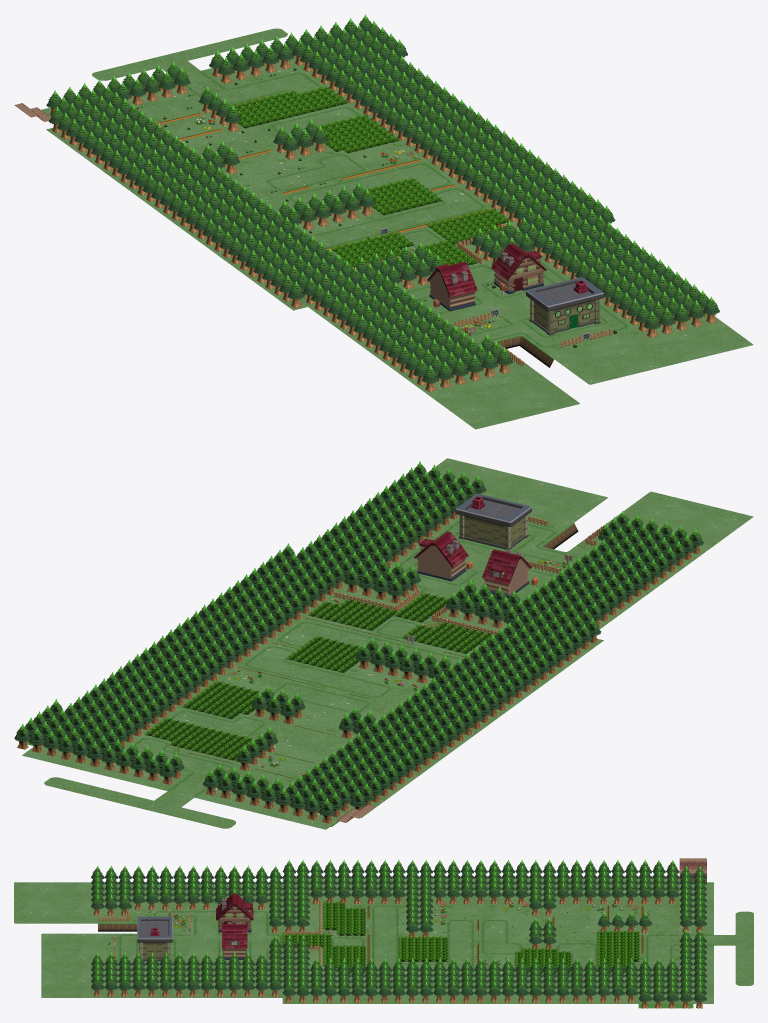
File: pallet_route1.glb
3 renders of one model, top to bottom at view 1: azimuth 30°, elevation 25°; view 2: azimuth 150°, elevation 25°; view 3: azimuth 270°, elevation 25°, orthographic. The views are drawn at different scales.
Visible parts, largest first — view 1: 1haolu_floor, xinshoucun_floor, polySurface6, SM_T_001_House_01, SM_T_001_House_01_1; view 2: 1haolu_floor, xinshoucun_floor, polySurface6, SM_T_001_House_01_1, SM_T_001_House_01; view 3: 1haolu_floor, xinshoucun_floor, polySurface6, SM_T_001_House_01, SM_T_001_House_01_1.
Part boxes in pixels (x1=…): 1haolu_floor: x1=41, y1=28, x2=616, y2=310; xinshoucun_floor: x1=308, y1=251, x2=753, y2=429; polySurface6: x1=526, y1=277, x2=603, y2=335; SM_T_001_House_01: x1=427, y1=261, x2=477, y2=311; SM_T_001_House_01_1: x1=491, y1=243, x2=546, y2=294; 1haolu_floor: x1=22, y1=582, x2=603, y2=829; xinshoucun_floor: x1=389, y1=458, x2=753, y2=629; polySurface6: x1=455, y1=493, x2=531, y2=549; SM_T_001_House_01_1: x1=414, y1=531, x2=468, y2=581; SM_T_001_House_01: x1=482, y1=549, x2=531, y2=598; 1haolu_floor: x1=282, y1=876, x2=753, y2=1003; xinshoucun_floor: x1=14, y1=882, x2=282, y2=997; polySurface6: x1=137, y1=916, x2=172, y2=961; SM_T_001_House_01: x1=216, y1=893, x2=253, y2=932; SM_T_001_House_01_1: x1=222, y1=922, x2=247, y2=959.
Size of what is drawn, in the model's own units: 48.07 by 5.6 by 108.
37 materials, 36 textured.
